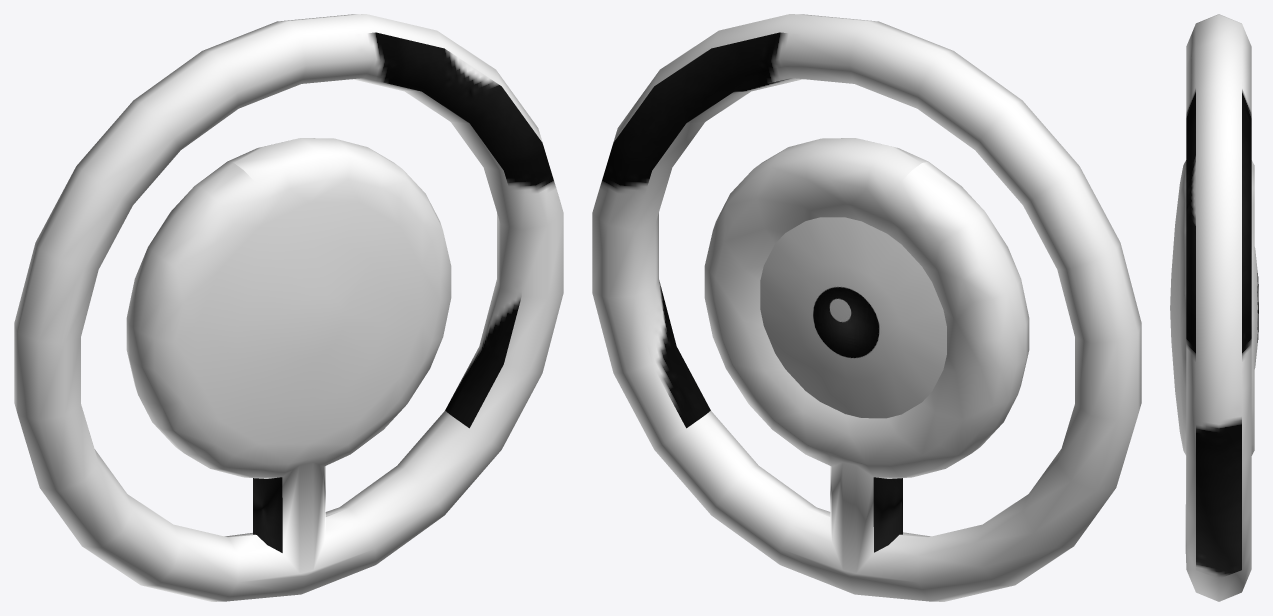
The picture shows the model from 3 angles, left to right: view 1: azimuth 30°, elevation 25°; view 2: azimuth 150°, elevation 25°; view 3: azimuth 270°, elevation 25°; orthographic projection. The views are drawn at different scales.
Parts seen in each view (by area): view 1: Object_3; view 2: Object_3, Object_2; view 3: Object_3, Object_2.
Boxes of the visible parts, bbox=[...] form: Object_3: bbox=[14, 14, 563, 601]; Object_3: bbox=[592, 14, 1141, 601]; Object_2: bbox=[760, 217, 946, 418]; Object_3: bbox=[1170, 14, 1254, 601]; Object_2: bbox=[1254, 247, 1258, 368].
Bounding box in the file's own units: 390 × 394 × 59.06.
2 materials, 2 textured.
